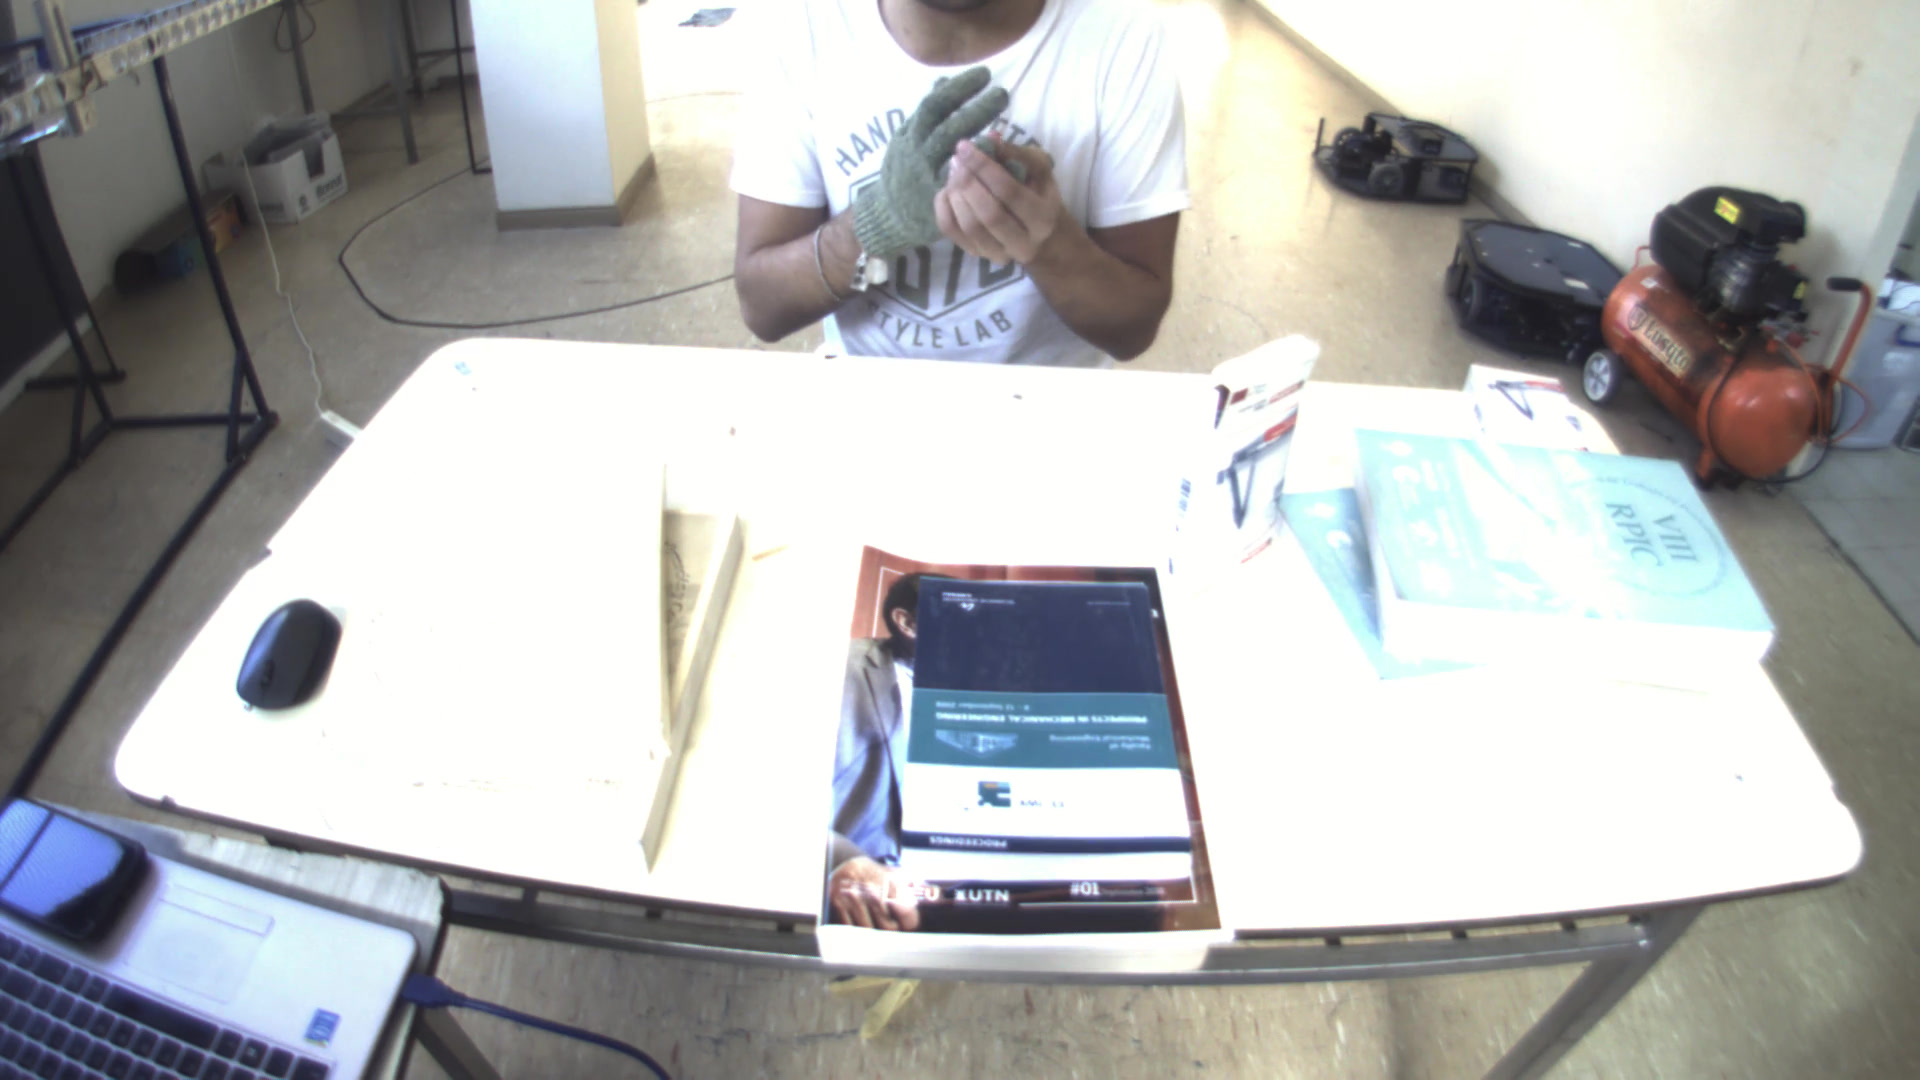hand: (833, 65, 1036, 255), (887, 96, 1073, 265), (942, 129, 1076, 261)
